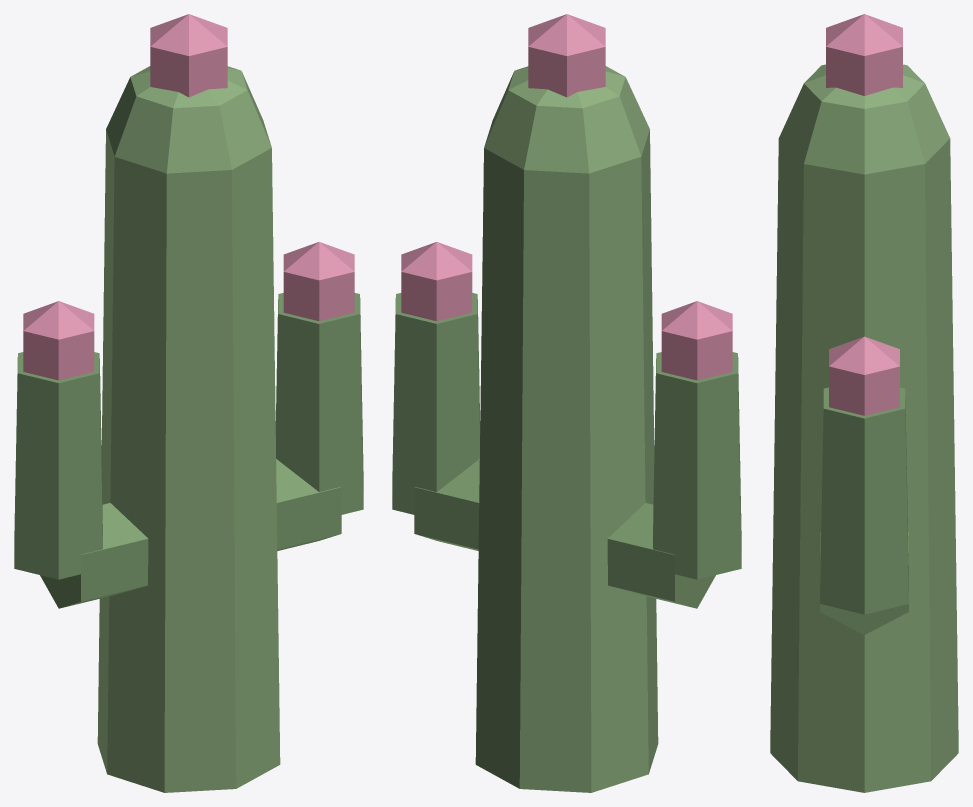
File: tarhut_cacto_2.glb
The picture shows the model from 3 angles, left to right: view 1: azimuth 30°, elevation 25°; view 2: azimuth 150°, elevation 25°; view 3: azimuth 270°, elevation 25°; orthographic projection.
Parts seen in each view (by area): view 1: cacto; view 2: cacto; view 3: cacto.
Boxes of the visible parts, x1,y1,x2,y2 form: cacto: (14, 14, 363, 792); cacto: (392, 14, 741, 792); cacto: (770, 14, 958, 792).
Size of the model in its own units: 0.94 by 1.9 by 0.44.
